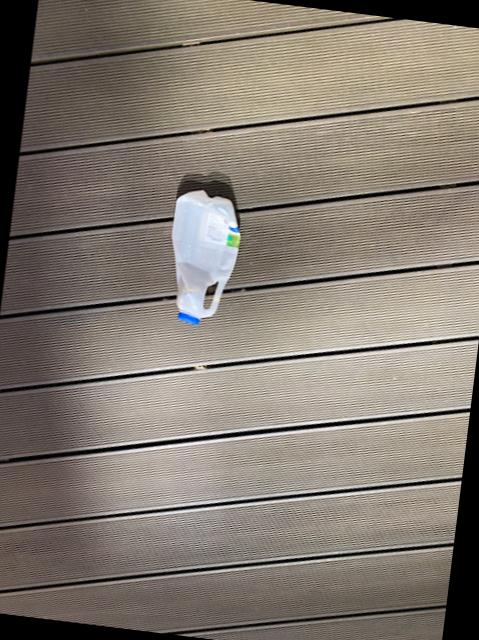plastic: (170, 190, 238, 324)
